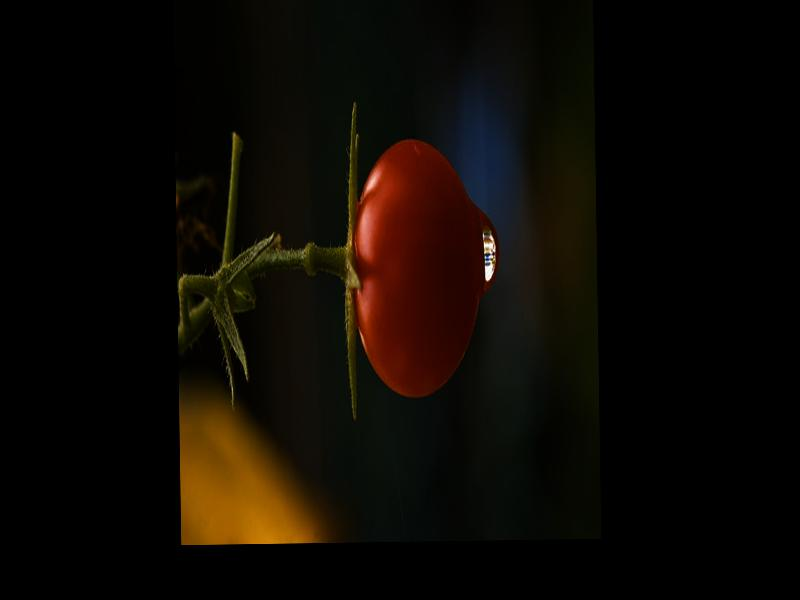Tomato: (350, 135, 481, 397)
